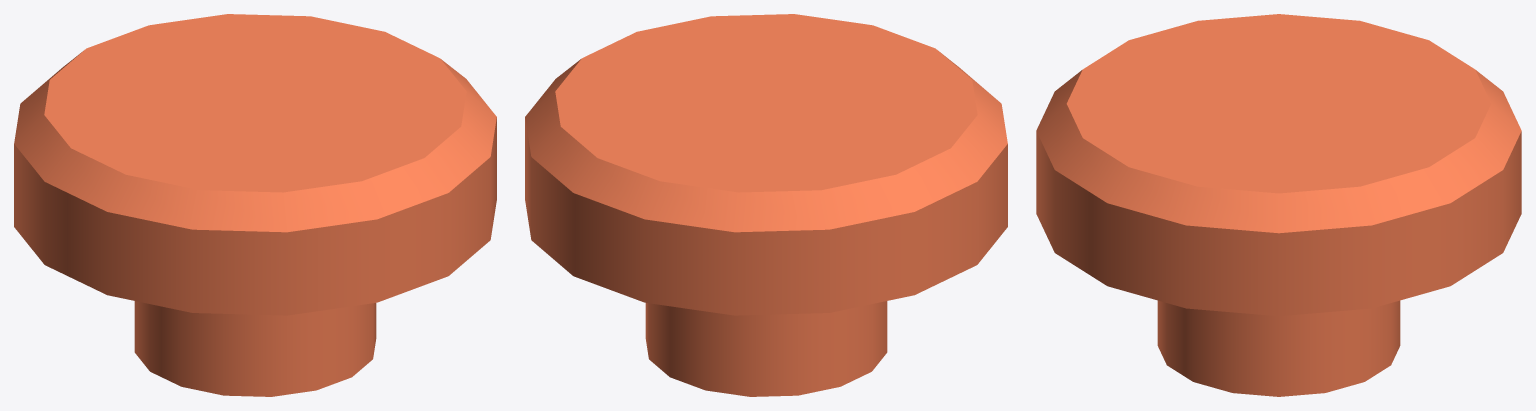
File: button.gltf
The picture shows the model from 3 angles, left to right: view 1: azimuth 30°, elevation 25°; view 2: azimuth 150°, elevation 25°; view 3: azimuth 270°, elevation 25°; orthographic projection.
Parts seen in each view (by area): view 1: button_geo; view 2: button_geo; view 3: button_geo.
Part boxes in pixels (x1,y1,x2,y2): button_geo: (14,14,496,396); button_geo: (525,14,1007,396); button_geo: (1036,14,1521,396).
Size of the model in its own units: 1 by 0.55 by 1.
